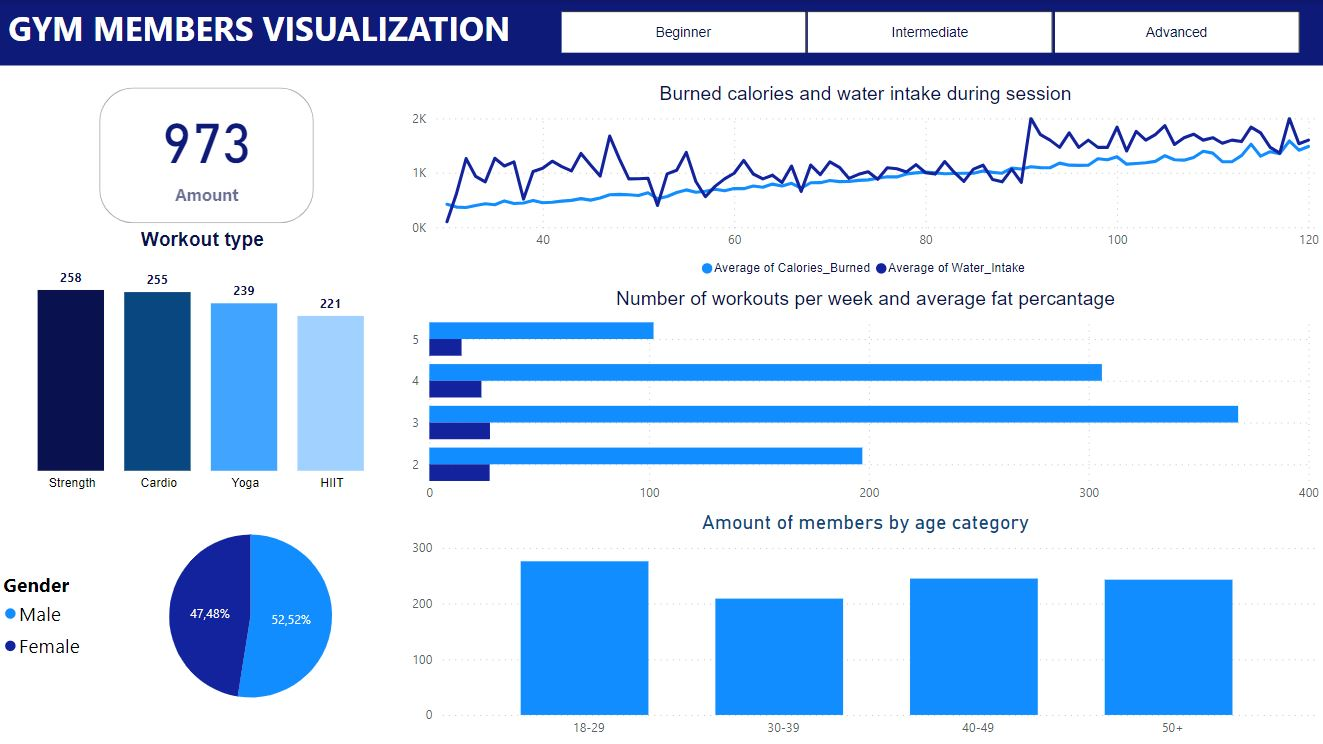

Layout of this report page (visuals, bound fields, positions):
{"tool":"powerbi","page":{"name":"Dashboard","canvas":[1280,720],"ordinal":0},"visuals":[{"type":"textbox","box":[0,0,1280.3,63.2],"z":0},{"type":"pieChart","fields":{"Category":["gym_members_exercise_tracking.Gender"],"Y":["CountNonNull(gym_members_exercise_tracking.Gender)"]},"box":[0,482.4,401.6,224.3],"z":1000},{"type":"clusteredColumnChart","title":"Workout type","fields":{"Y":["CountNonNull(gym_members_exercise_tracking.Workout_Type)"],"Category":["gym_members_exercise_tracking.Workout_Type"]},"box":[0,220.7,394.4,261.7],"z":2000},{"type":"clusteredColumnChart","title":"Amount of members by age category","fields":{"Category":["gym_members_exercise_tracking.AgeCategory"],"Y":["_Measures.Amount"]},"box":[394.4,493.3,885.2,226.7],"z":3000},{"type":"lineChart","title":"Burned calories and water intake during session","fields":{"Category":["gym_members_exercise_tracking.Session_Duration"],"Y":["Avg(gym_members_exercise_tracking.Calories_Burned)"],"Y2":["Avg(gym_members_exercise_tracking.Water_Intake)"]},"box":[394.4,79.6,885.2,197.8],"z":4000},{"type":"slicer","fields":{"Values":["gym_members_exercise_tracking.Experience_Level"]},"box":[517.4,3.6,762.2,54.3],"z":5000},{"type":"cardVisual","fields":{"Data":["_Measures.Amount"]},"box":[92.9,79.6,217.1,141.1],"z":6000},{"type":"clusteredBarChart","title":"Number of workouts per week and average fat percantage","fields":{"Category":["gym_members_exercise_tracking.Workout_Frequency (days/week)"],"Y":["_Measures.Amount","Avg(gym_members_exercise_tracking.Fat_Percentage)"]},"box":[394.4,277.4,885.2,215.9],"z":7000}]}

Visuals, with their boxes in screenshot pixels (x1, y1, x2, y2), scaled from the page's 1280x720 canvas onto the 1323x744 screenshot:
textbox: {"x1": 0, "y1": 0, "x2": 1322, "y2": 65}
pieChart - gym_members_exercise_tracking.Gender x CountNonNull(gym_members_exercise_tracking.Gender): {"x1": 0, "y1": 498, "x2": 415, "y2": 730}
"Workout type" clusteredColumnChart: {"x1": 0, "y1": 228, "x2": 408, "y2": 498}
"Amount of members by age category" clusteredColumnChart: {"x1": 408, "y1": 510, "x2": 1322, "y2": 743}
"Burned calories and water intake during session" lineChart: {"x1": 408, "y1": 82, "x2": 1322, "y2": 287}
slicer - gym_members_exercise_tracking.Experience_Level: {"x1": 535, "y1": 4, "x2": 1322, "y2": 60}
cardVisual - _Measures.Amount: {"x1": 96, "y1": 82, "x2": 320, "y2": 228}
"Number of workouts per week and average fat percantage" clusteredBarChart: {"x1": 408, "y1": 287, "x2": 1322, "y2": 510}
